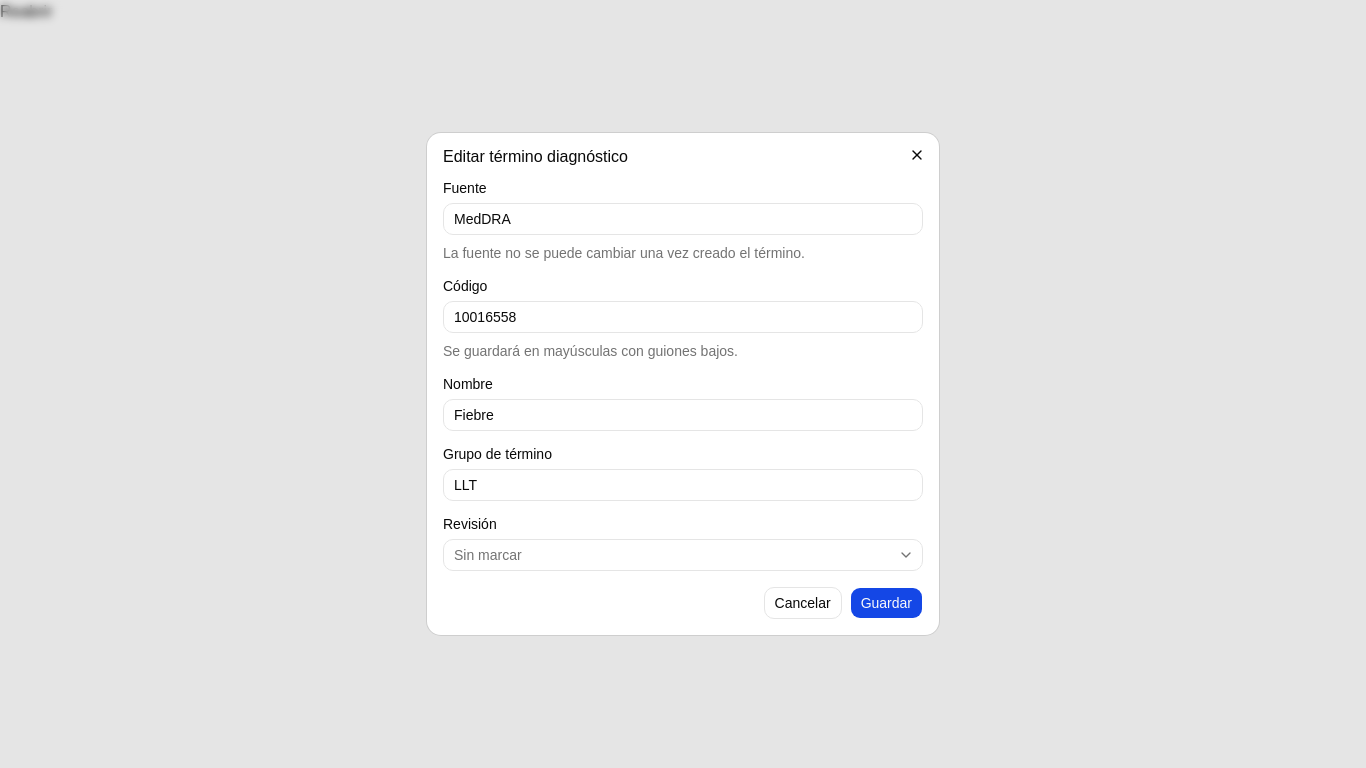
Scenario: DiagnosticTermFormDialog — editar › un 409 DIAGTERM_004_CODE_EXISTS pinta el error bajo code
The width and height of the screenshot is (1366, 768).
Expected: the field labelled "Nombre" holds "Fiebre", x1=443 y1=399 x2=923 y2=431
Click the button "Guardar": x=886, y=603 x1=850 y1=587 x2=923 y2=619
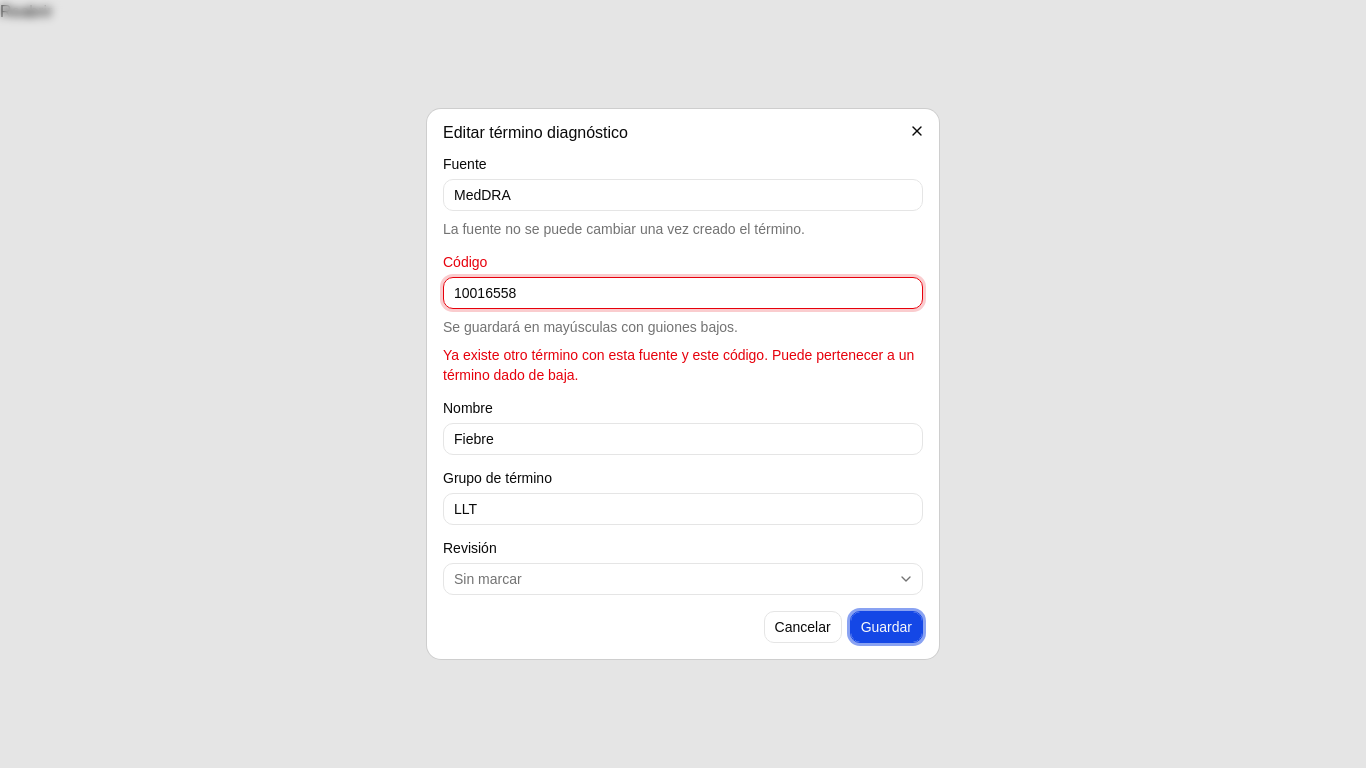
Now the text "Ya existe otro término con esta fuente y este código. Puede pertenecer a un término dado de baja." is shown, box x1=443 y1=347 x2=914 y2=383
